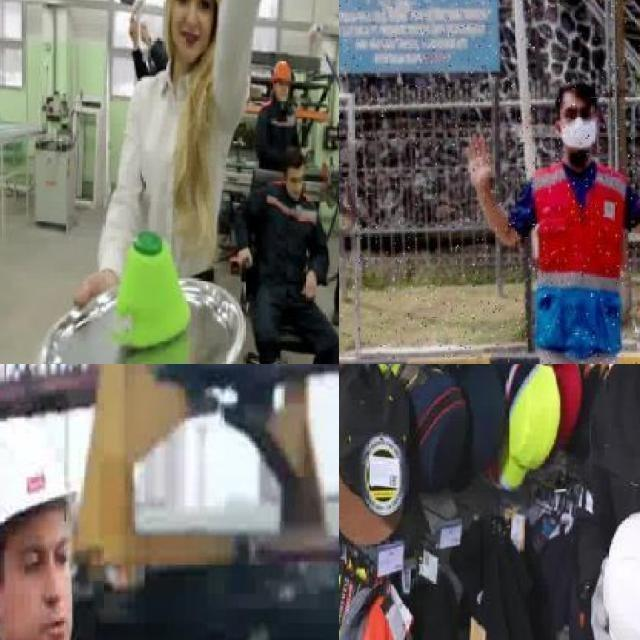apron: (591, 557, 615, 640)
